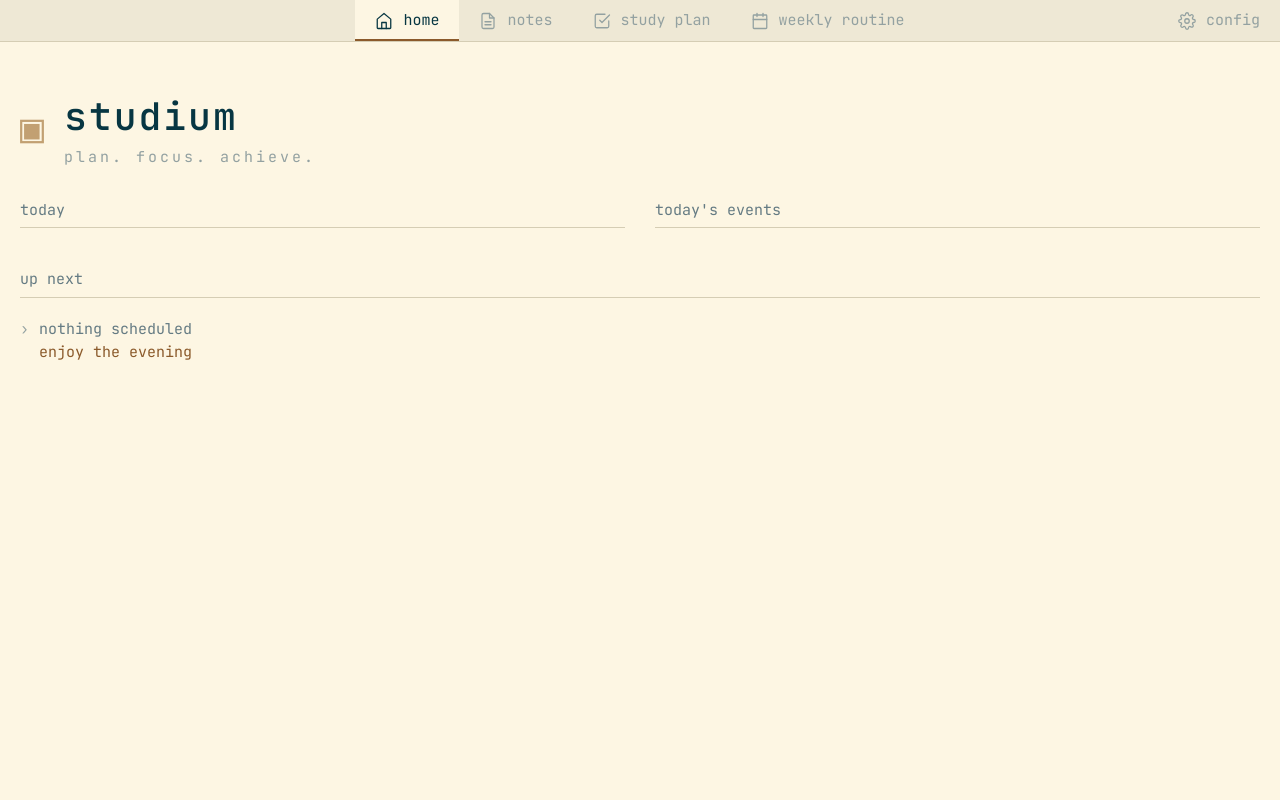
Test: App › opens the config modal from the top bar and closes it on Escape
Click the button "config" at (1219, 20), box [1158, 0, 1279, 41]
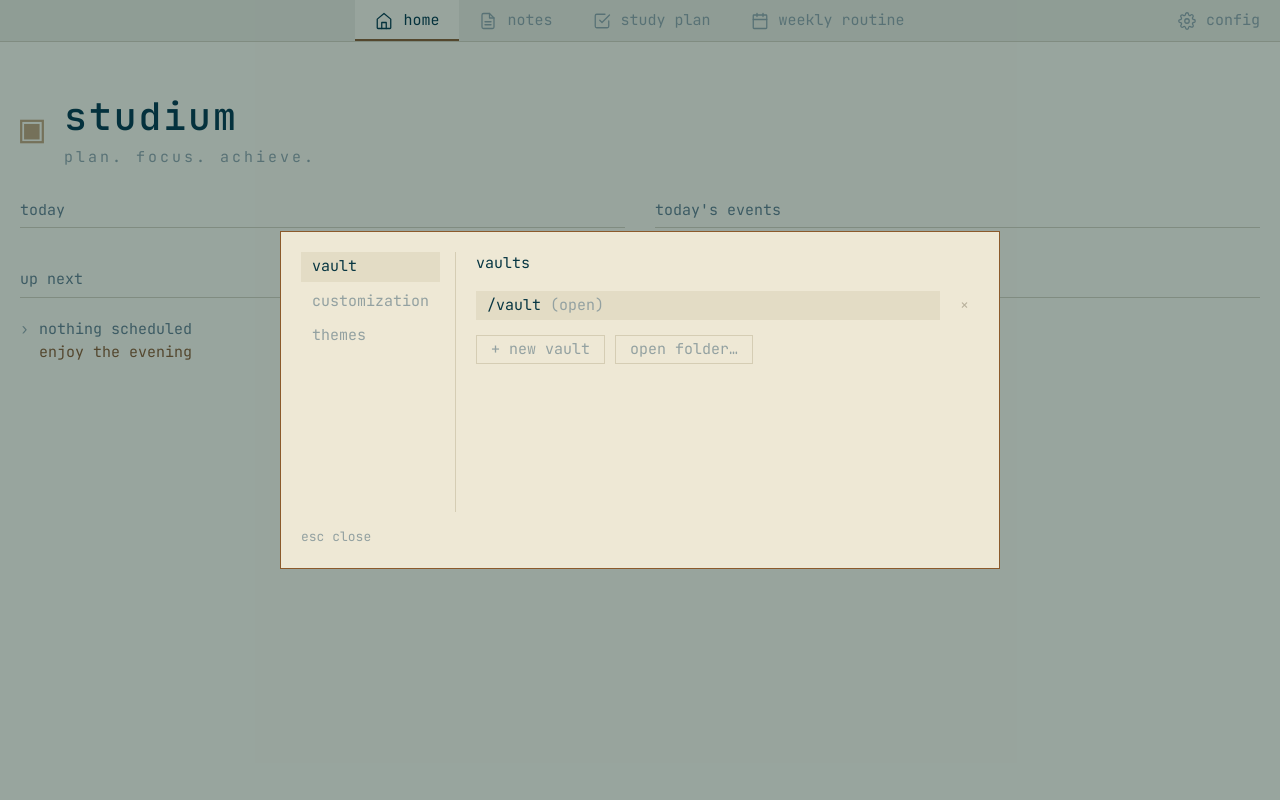
Press Escape
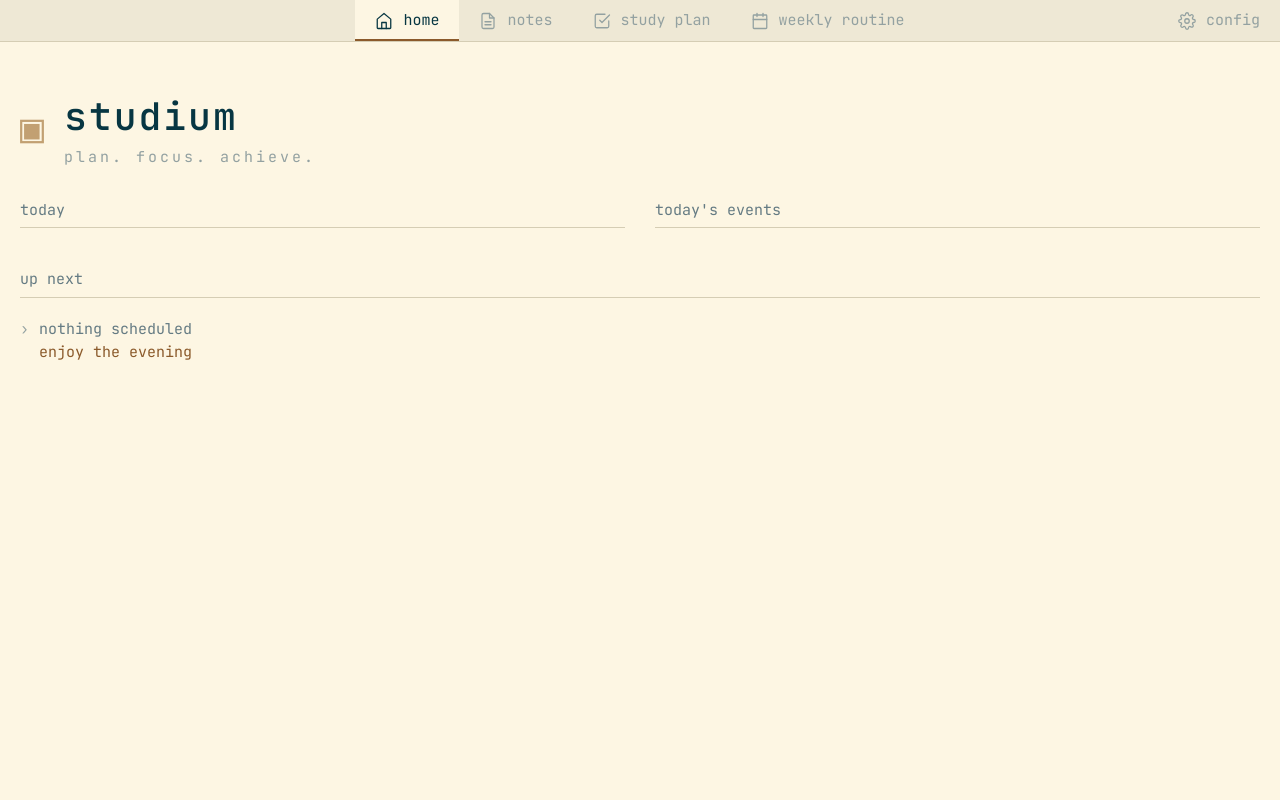
Result: the dialog is gone
